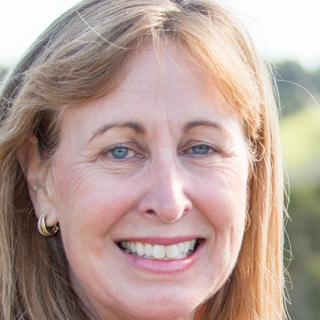eye: (90, 139, 150, 169), (172, 135, 230, 165)
